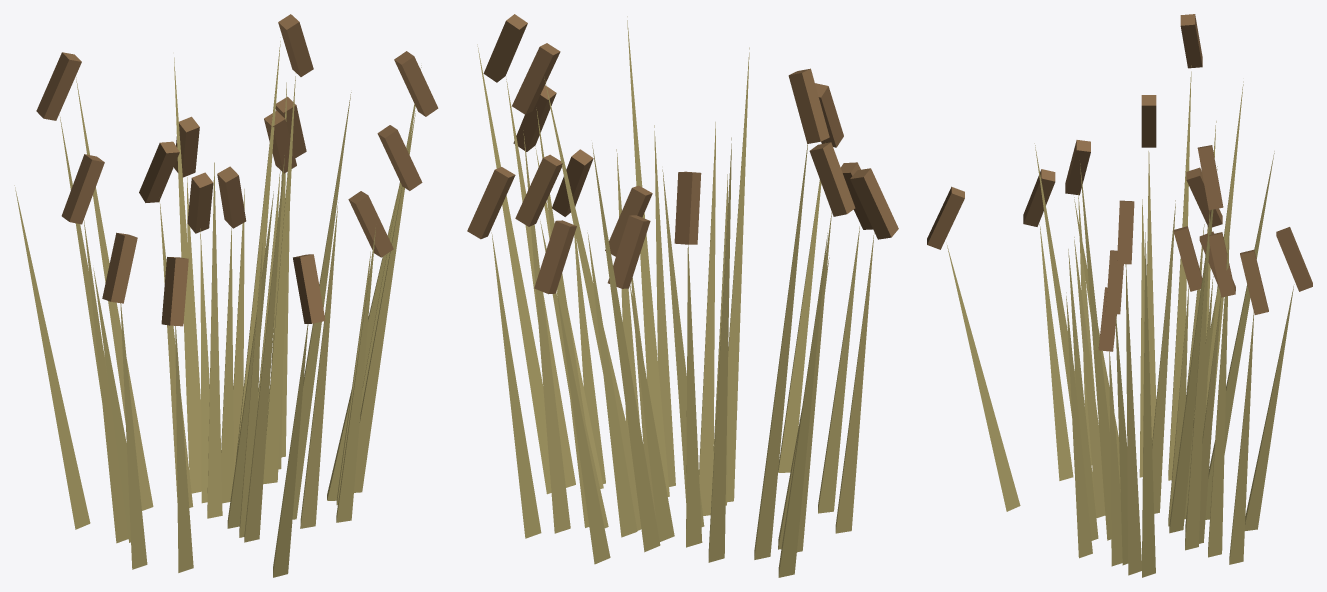
Rendered from nature_reed_a.glb.
The picture shows the model from 3 angles, left to right: view 1: azimuth 30°, elevation 25°; view 2: azimuth 150°, elevation 25°; view 3: azimuth 270°, elevation 25°; orthographic projection. The views are drawn at different scales.
Parts seen in each view (by area): view 1: nature_reed_a; view 2: nature_reed_a; view 3: nature_reed_a.
Boxes of the visible parts, x1,y1,x2,y2 form: nature_reed_a: [14, 14, 438, 577]; nature_reed_a: [467, 14, 898, 577]; nature_reed_a: [927, 14, 1312, 577].
Bounding box in the file's own units: 1.89 × 2.34 × 1.84.
